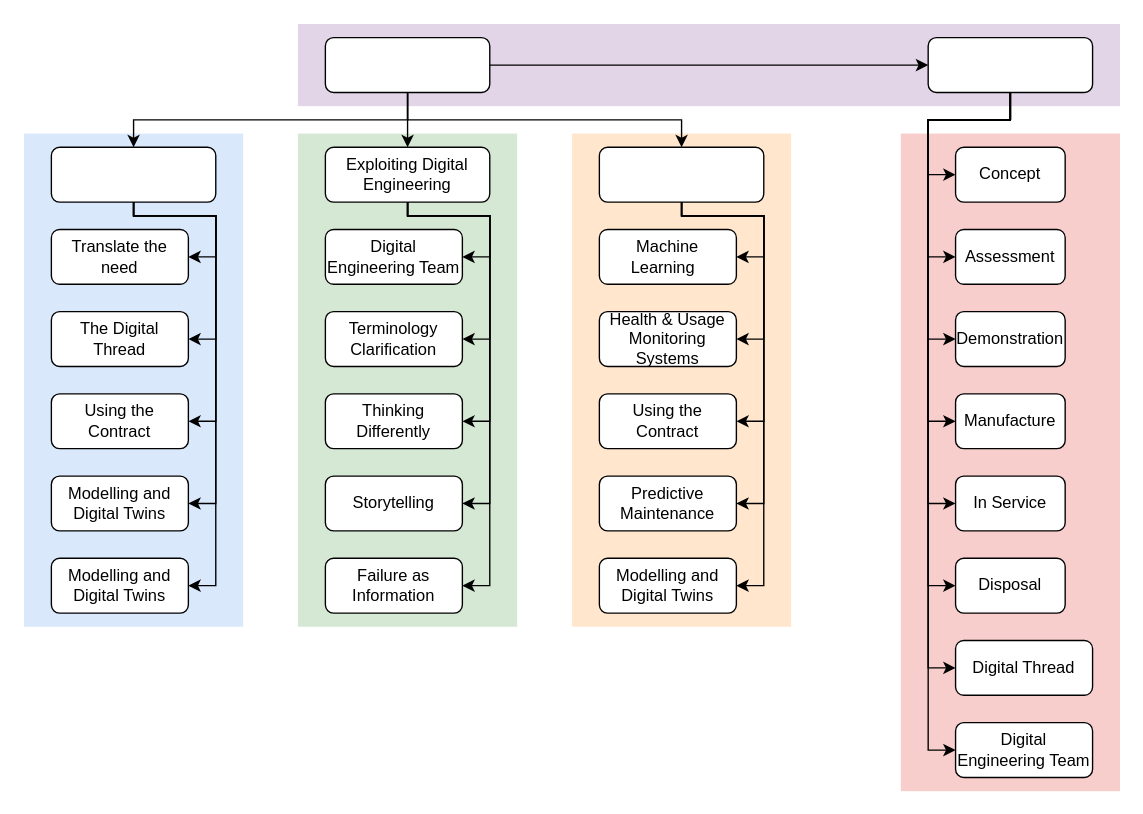
This 1143x814 diagram has some shape labels left out. Each missing label, with the centre of its shape:
"CADMID" goes at (1010,64).
"Digital Engineering for Equipment" goes at (133,174).
"Digital Engineering for Support" goes at (681,174).
"Homepage" goes at (407,64).
